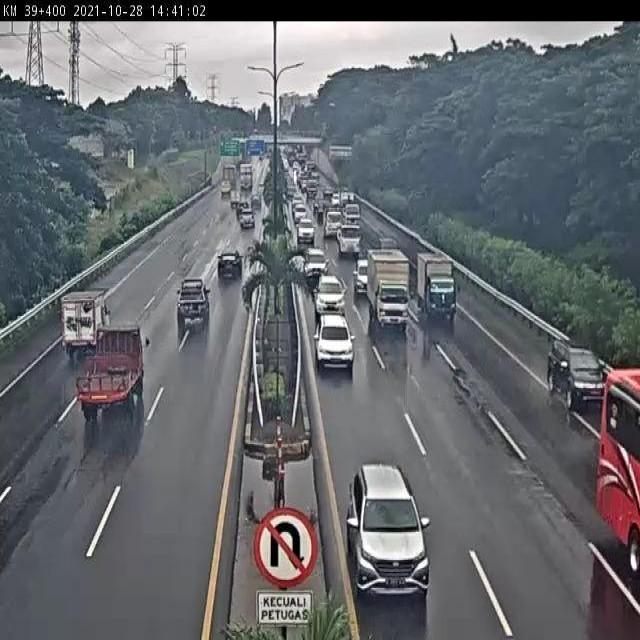car: (347, 464, 431, 597), (546, 339, 612, 408), (313, 312, 354, 376), (176, 276, 212, 327), (312, 272, 345, 315), (215, 247, 243, 280)
mid truck: (75, 323, 147, 417)
small truck: (60, 288, 110, 353)
truck-m-: (366, 248, 411, 332)
truck-s-: (418, 250, 458, 322)
